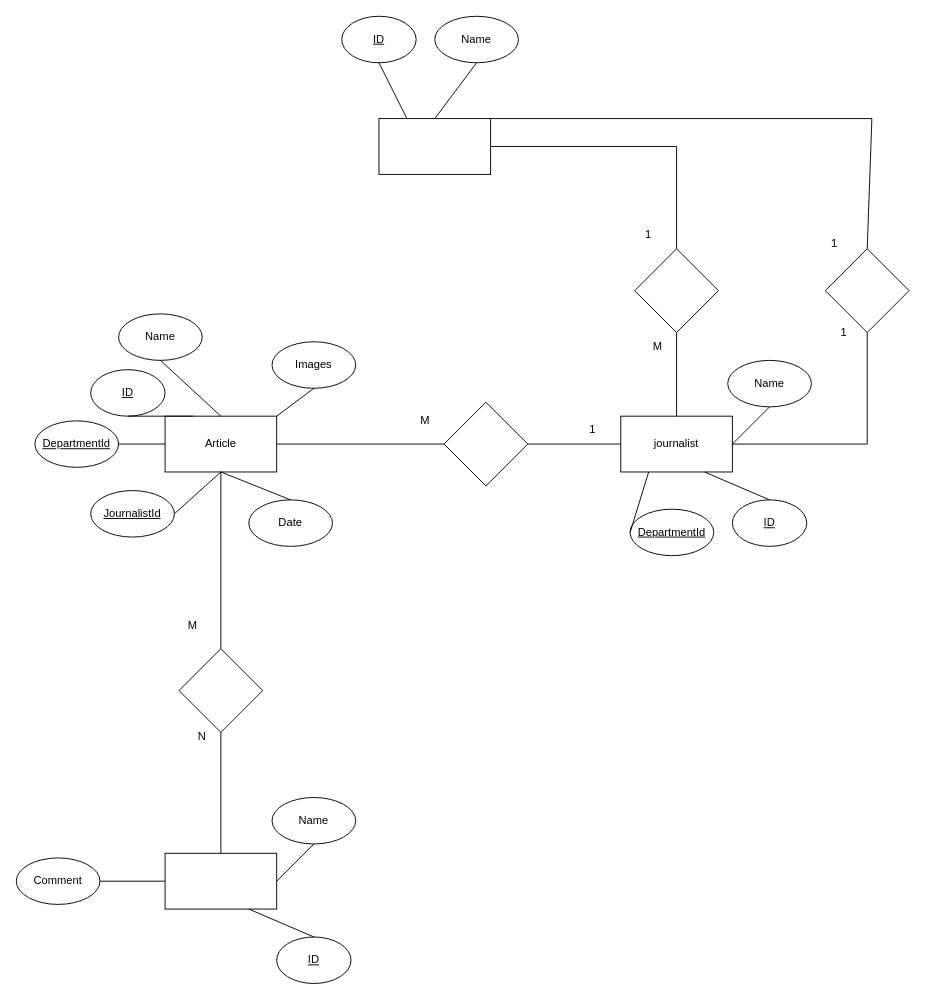
The diagram is 925 pixels wide and 1000 high, and some of its shapes have lost their labels. The box of each missing label's shape, as (x1, y1, x2, y2) in pixels:
Departement: (378, 118, 491, 174)
Have: (634, 248, 718, 332)
Head: (824, 248, 909, 332)
read: (178, 648, 263, 732)
Vistor: (164, 852, 277, 909)
Write: (443, 401, 528, 486)
